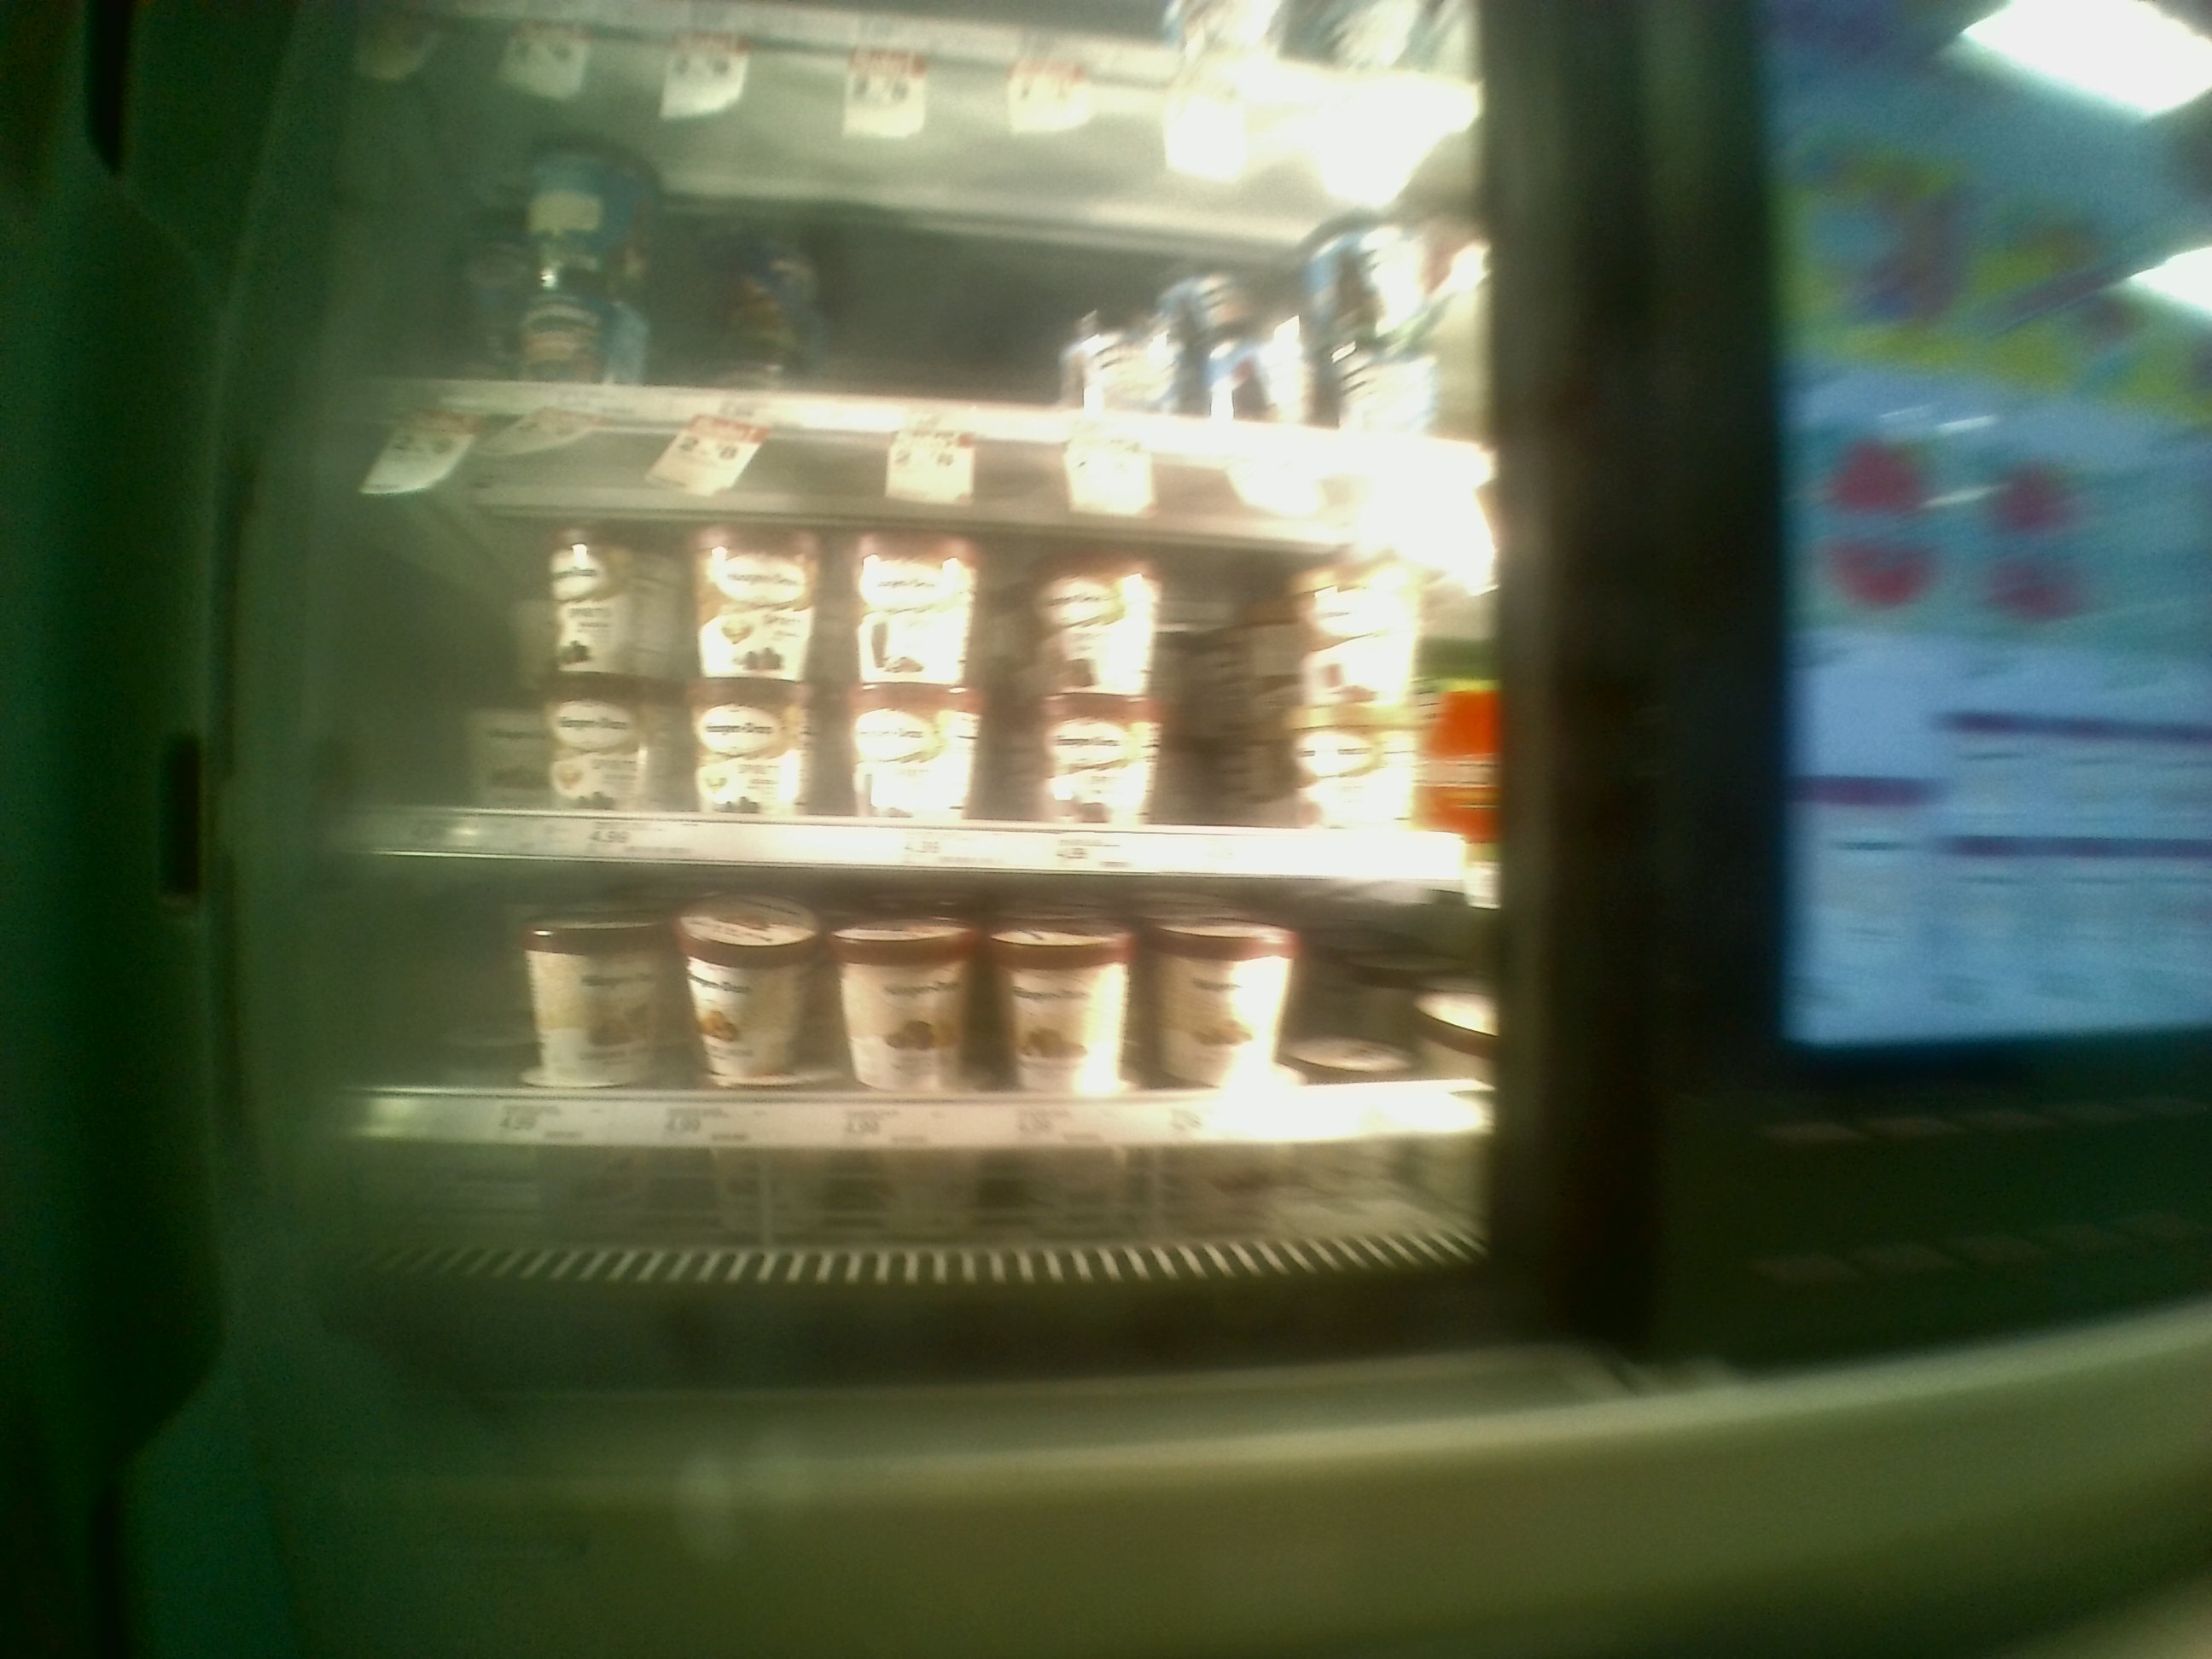shelf: (376, 408, 1486, 864), (374, 854, 1489, 1223)
